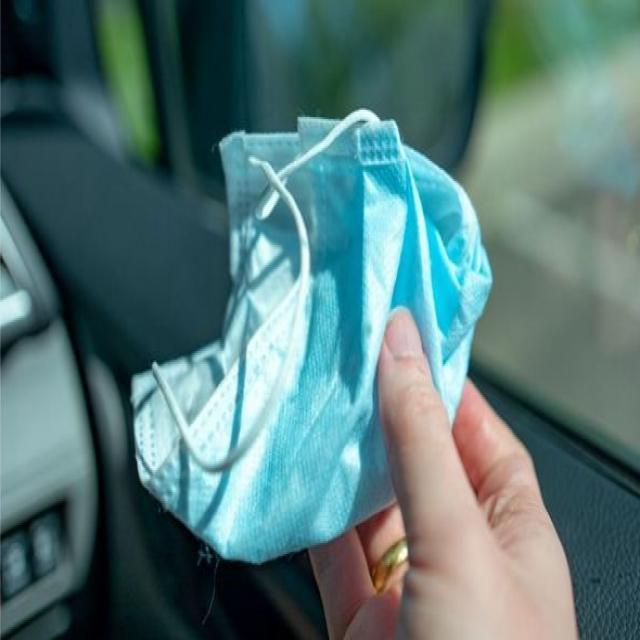face mask: (132, 111, 497, 567)
